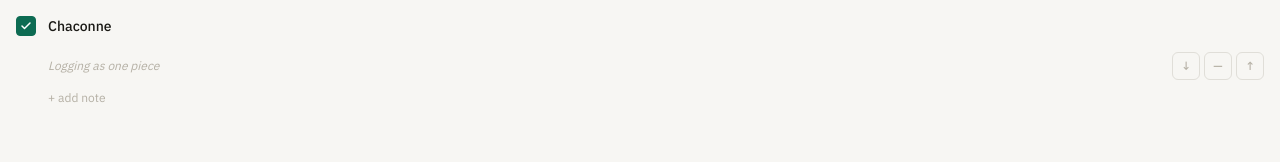
Test: voice input in a repertoire block › dictates into the whole-piece note
The width and height of the screenshot is (1280, 162).
Click the button "+ add note" at [77, 98], box [48,90,106,106]
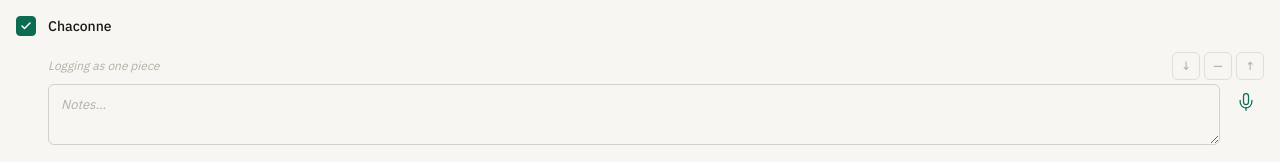
Click the button named "Dictate notes for this piece" at [1246, 102], box [1228,84,1264,120]
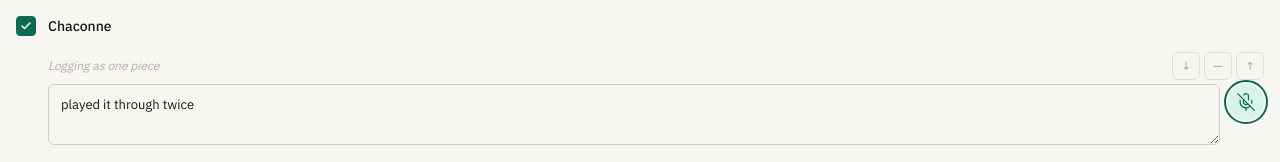
Now the text box with placeholder "Notes..." holds "played it through twice", box [48,84,1220,145]
